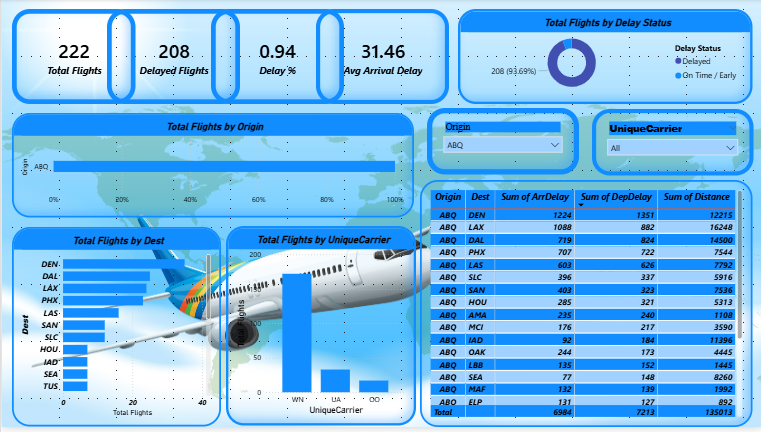

What the dashboard file says about the page in this screenshot:
{"tool":"powerbi","page":{"name":"Page 1","canvas":[1280,720],"ordinal":0},"visuals":[{"type":"clusteredColumnChart","fields":{"Category":["Sheet1.UniqueCarrier"],"Y":["Sheet1.Total Flights"]},"box":[378,383,320,336],"z":0},{"type":"cardVisual","fields":{"Data":["Sheet1.Total Flights"]},"box":[16,16,208,160],"z":1000},{"type":"cardVisual","fields":{"Data":["Sheet1.Delayed Flights"]},"box":[176,16,224,160],"z":2000},{"type":"cardVisual","fields":{"Data":["Sheet1.Avg Arrival Delay"]},"box":[528,16,224,160],"z":3000},{"type":"cardVisual","fields":{"Data":["Sheet1.Delay %"]},"box":[352,16,224,160],"z":4000},{"type":"donutChart","fields":{"Category":["Sheet1.Delay Status"],"Y":["Sheet1.Total Flights"]},"box":[768,16,496,160],"z":5000},{"type":"hundredPercentStackedBarChart","fields":{"Category":["Sheet1.Origin"],"Y":["Sheet1.Total Flights"]},"box":[16,192,677,176],"z":6000},{"type":"clusteredBarChart","fields":{"Category":["Sheet1.Dest"],"Y":["Sheet1.Total Flights"]},"box":[16,384,352,336],"z":7000},{"type":"tableEx","fields":{"Values":["Sheet1.Origin","Sheet1.Dest","Sum(Sheet1.ArrDelay)","Sum(Sheet1.DepDelay)","Sum(Sheet1.Distance)"]},"box":[704,304,560,416],"z":9000},{"type":"slicer","fields":{"Values":["Sheet1.UniqueCarrier"]},"box":[994,185,272,112],"z":10000},{"type":"slicer","fields":{"Values":["Sheet1.Origin"]},"box":[716,184,256,112],"z":11000}]}

Visuals, with their boxes in screenshot pixels (x1, y1, x2, y2), scaled from the page's 1280x720 canvas onto the 761x432 screenshot:
clusteredColumnChart - Sheet1.UniqueCarrier x Sheet1.Total Flights: <box>225,230,415,431</box>
cardVisual - Sheet1.Total Flights: <box>10,10,133,106</box>
cardVisual - Sheet1.Delayed Flights: <box>105,10,238,106</box>
cardVisual - Sheet1.Avg Arrival Delay: <box>314,10,447,106</box>
cardVisual - Sheet1.Delay %: <box>209,10,342,106</box>
donutChart - Sheet1.Delay Status x Sheet1.Total Flights: <box>457,10,751,106</box>
hundredPercentStackedBarChart - Sheet1.Origin x Sheet1.Total Flights: <box>10,115,412,221</box>
clusteredBarChart - Sheet1.Dest x Sheet1.Total Flights: <box>10,230,219,431</box>
tableEx - Sheet1.Origin x Sheet1.Dest: <box>419,182,751,431</box>
slicer - Sheet1.UniqueCarrier: <box>591,111,753,178</box>
slicer - Sheet1.Origin: <box>426,110,578,178</box>
